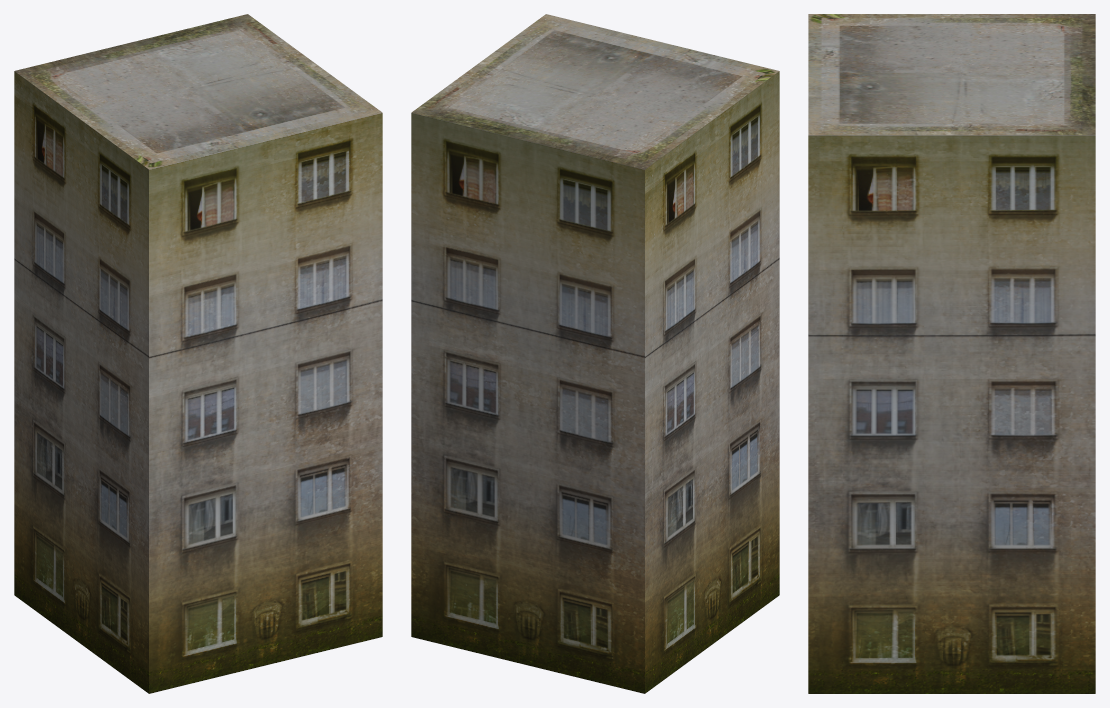
The model's file is LOD_Building_1.fbx.
3 views of the same model, side by side, from view 1: azimuth 30°, elevation 25°; view 2: azimuth 150°, elevation 25°; view 3: azimuth 270°, elevation 25° (orthographic). The views are drawn at different scales.
Parts seen in each view (by area): view 1: Cube.003; view 2: Cube.003; view 3: Cube.003.
Part boxes in pixels (x1=…): Cube.003: x1=14, y1=14, x2=382, y2=693; Cube.003: x1=411, y1=14, x2=779, y2=693; Cube.003: x1=808, y1=14, x2=1095, y2=693.
Size of the model in its own units: 400 by 858 by 400.
